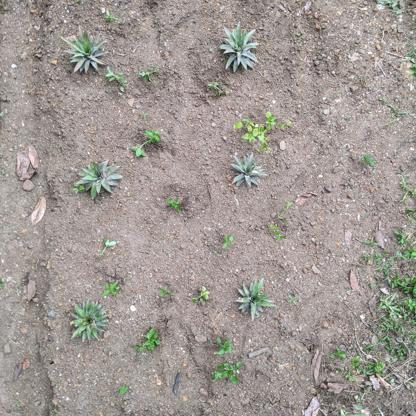pineapple: (63, 24, 112, 76), (72, 158, 128, 202), (220, 22, 262, 77), (63, 299, 112, 343), (234, 276, 273, 318), (226, 151, 270, 188)
weed: (209, 331, 242, 386), (232, 111, 282, 144), (130, 128, 167, 162), (136, 324, 164, 357), (189, 282, 215, 310), (102, 272, 128, 298), (164, 189, 184, 215)
